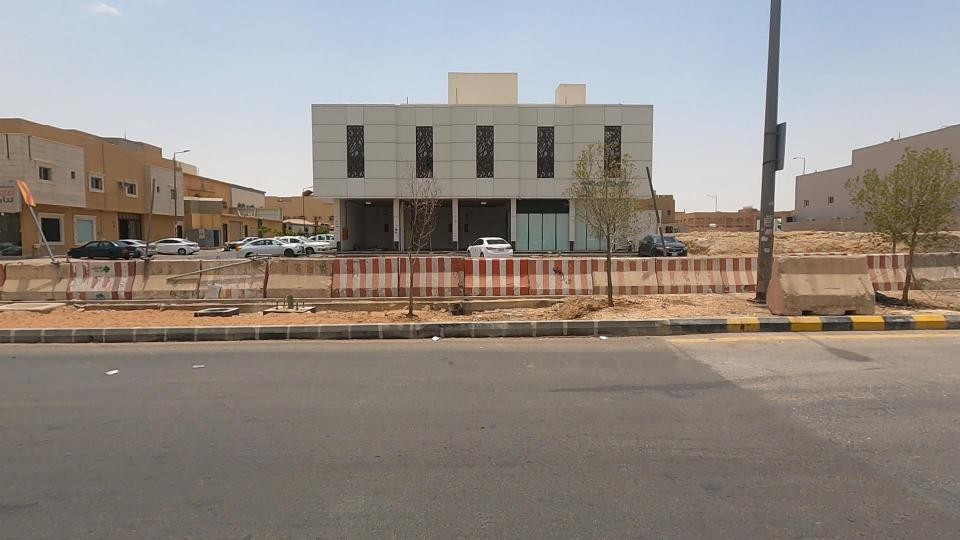CLUTTER_SIDEWALK: (409, 267, 833, 346), (0, 271, 317, 354), (211, 276, 540, 346)
CONSTRUCTION_ROAD: (422, 213, 757, 338), (194, 222, 555, 336), (0, 233, 324, 322)
GARBAGE: (80, 350, 140, 402), (405, 318, 475, 359), (569, 318, 629, 352)
